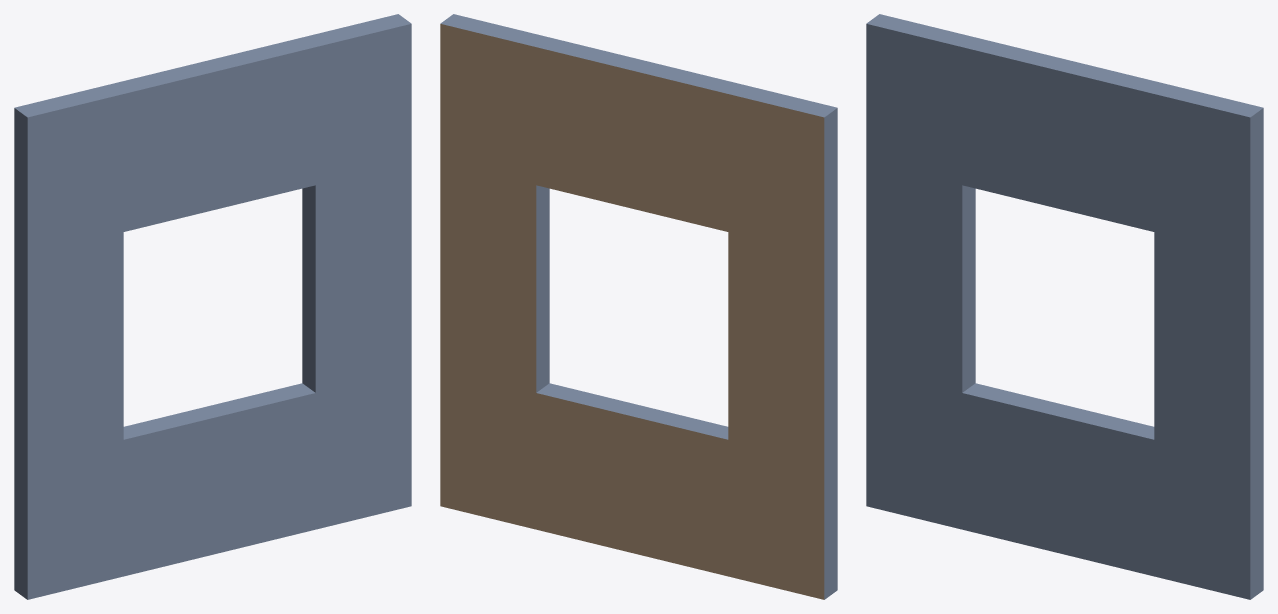
Rendered from Wall2_C3_04.fbx.
3 views of the same model, side by side, from view 1: azimuth 30°, elevation 25°; view 2: azimuth 150°, elevation 25°; view 3: azimuth 330°, elevation 25° (orthographic).
Parts seen in each view (by area): view 1: Wall2_C3_04; view 2: Wall2_C3_04; view 3: Wall2_C3_04.
Part boxes in pixels (left/top/right/bottom): Wall2_C3_04: left=14, top=14, right=411, bottom=599; Wall2_C3_04: left=440, top=14, right=837, bottom=599; Wall2_C3_04: left=866, top=14, right=1263, bottom=599.
Size of the model in its own units: 250 by 300 by 15.
